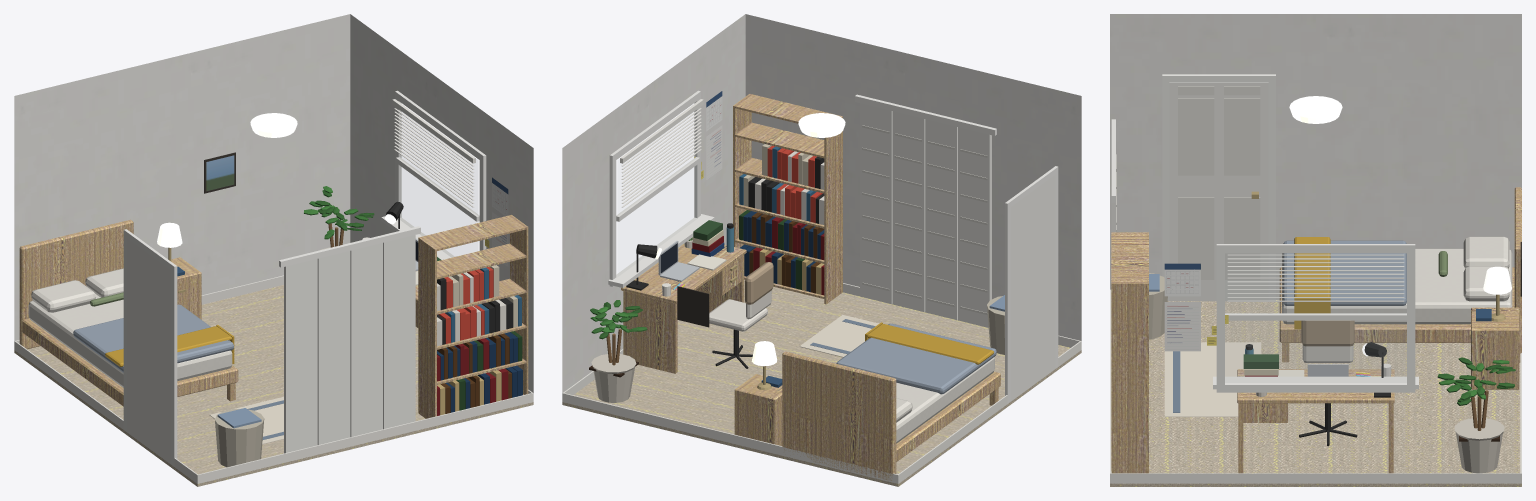
File: us_bed_c.glb
3 renders of one model, left to right at view 1: azimuth 30°, elevation 25°; view 2: azimuth 150°, elevation 25°; view 3: azimuth 270°, elevation 25°, orthographic. The views are drawn at different scales.
Visible parts, largest first — view 1: WALL_N_wall, WALL_S_trim, us_bed_c_props, us_bed_c_woodparts, WALL_E_wall, us_bed_c_floorm, WALL_W_trim, us_bed_c_fabricparts, WALL_E_trim, WALL_E_glass, us_bed_c_bulbs, WALL_N_print (+2 smaller); view 2: WALL_S_wall, us_bed_c_woodparts, us_bed_c_props, WALL_S_trim, WALL_E_wall, us_bed_c_floorm, WALL_W_trim, WALL_E_trim, WALL_E_glass, WALL_N_trim, us_bed_c_fabricparts, us_bed_c_bulbs (+2 smaller); view 3: WALL_W_wall, us_bed_c_floorm, WALL_W_trim, WALL_E_glass, us_bed_c_props, us_bed_c_woodparts, WALL_E_trim, us_bed_c_fabricparts, WALL_E_print, us_bed_c_bulbs, WALL_S_trim, us_bed_c_metal.
Part boxes in pixels (left/top/right/bottom): WALL_N_wall: left=14, top=14, right=350, bottom=340; WALL_S_trim: left=197, top=226, right=533, bottom=483; us_bed_c_props: left=73, top=152, right=522, bottom=467; us_bed_c_woodparts: left=19, top=215, right=528, bottom=418; WALL_E_wall: left=350, top=14, right=533, bottom=392; us_bed_c_floorm: left=14, top=285, right=533, bottom=486; WALL_W_trim: left=14, top=229, right=198, bottom=483; us_bed_c_fabricparts: left=28, top=268, right=232, bottom=387; WALL_E_trim: left=381, top=90, right=532, bottom=393; WALL_E_glass: left=398, top=113, right=477, bottom=256; us_bed_c_bulbs: left=157, top=113, right=395, bottom=247; WALL_N_print: left=206, top=155, right=234, bottom=191; WALL_S_wall: left=745, top=14, right=1081, bottom=340; us_bed_c_woodparts: left=621, top=94, right=1000, bottom=480; us_bed_c_props: left=589, top=144, right=1004, bottom=402; WALL_S_trim: left=843, top=94, right=1081, bottom=349; WALL_E_wall: left=562, top=14, right=745, bottom=392; us_bed_c_floorm: left=562, top=279, right=1081, bottom=486; WALL_W_trim: left=897, top=166, right=1081, bottom=483; WALL_E_trim: left=563, top=90, right=714, bottom=394; WALL_E_glass: left=618, top=113, right=697, bottom=275; WALL_N_trim: left=562, top=393, right=898, bottom=483; us_bed_c_fabricparts: left=896, top=357, right=994, bottom=443; us_bed_c_bulbs: left=655, top=113, right=845, bottom=366; WALL_W_wall: left=1110, top=14, right=1521, bottom=289; us_bed_c_floorm: left=1110, top=300, right=1521, bottom=486; WALL_W_trim: left=1162, top=74, right=1279, bottom=301; WALL_E_glass: left=1225, top=254, right=1406, bottom=382; us_bed_c_props: left=1149, top=237, right=1521, bottom=473; us_bed_c_woodparts: left=1111, top=187, right=1521, bottom=473; WALL_E_trim: left=1110, top=244, right=1521, bottom=483; us_bed_c_fabricparts: left=1282, top=236, right=1512, bottom=324; WALL_E_print: left=1164, top=263, right=1228, bottom=351; us_bed_c_bulbs: left=1289, top=96, right=1512, bottom=356; WALL_S_trim: left=1110, top=119, right=1116, bottom=483; us_bed_c_metal: left=1245, top=191, right=1470, bottom=446.
Bounding box in the file's own units: 3.6 × 2.63 × 3.4.
11 materials, 5 textured.
